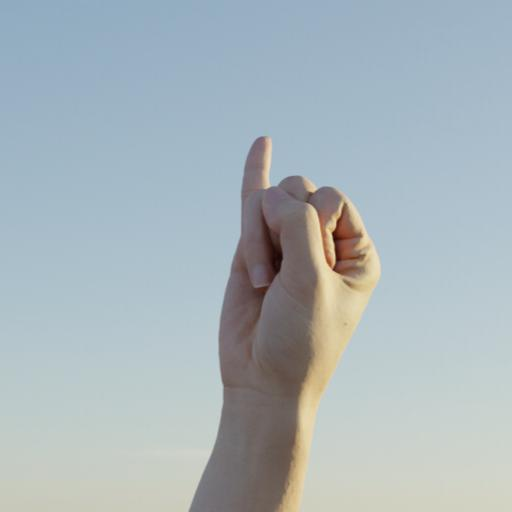I: (212, 132, 386, 403)
